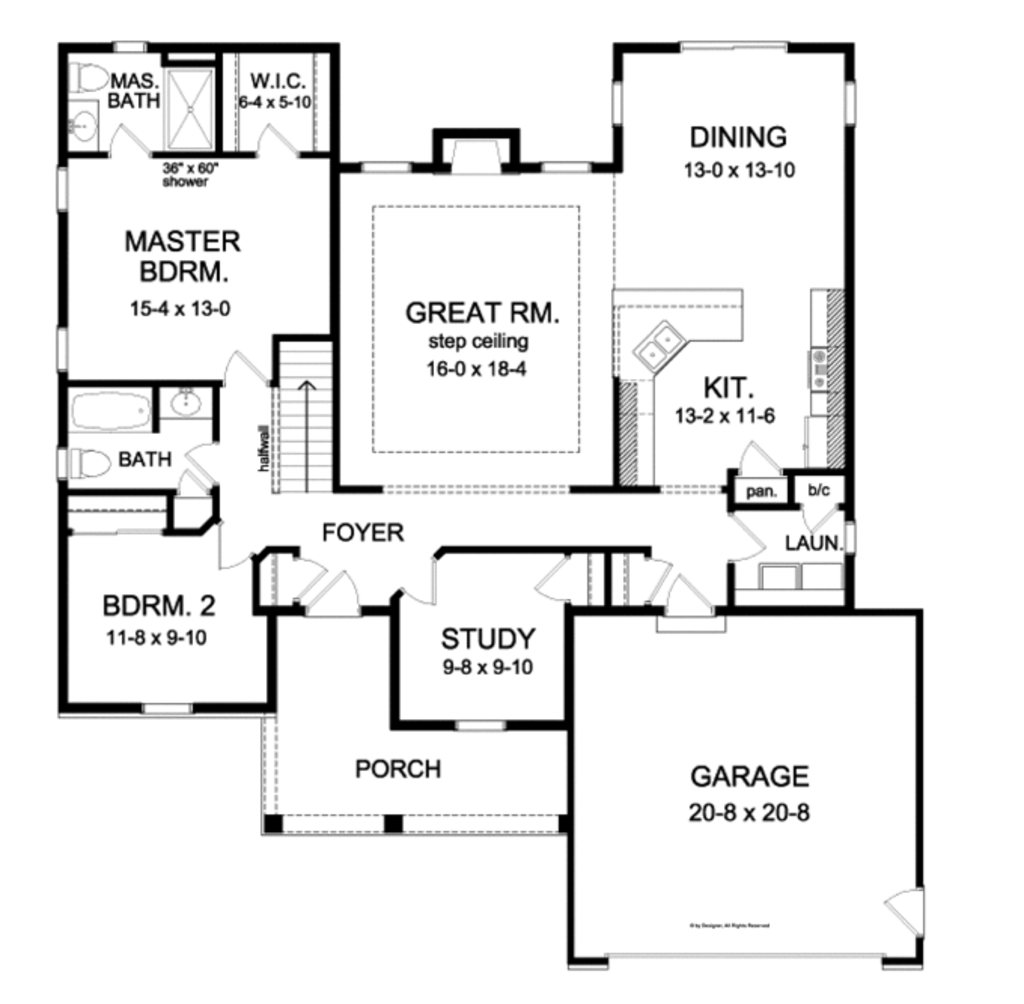door: (309, 568, 363, 623), (659, 575, 717, 621), (252, 119, 303, 164), (399, 558, 441, 611), (882, 885, 928, 933), (725, 515, 768, 566), (532, 555, 574, 607), (218, 348, 275, 386), (735, 440, 782, 483), (179, 439, 222, 485), (107, 116, 152, 159), (294, 551, 327, 607), (796, 507, 845, 534)
large_sink: (66, 59, 118, 100), (69, 441, 112, 484)
small_sink: (153, 381, 215, 426), (62, 98, 102, 155)
stairs: (268, 335, 343, 496)
tub: (68, 384, 159, 436)
twin_sink: (628, 319, 689, 372)
window: (677, 36, 793, 61), (133, 700, 198, 720), (356, 157, 414, 179), (457, 713, 508, 737), (610, 78, 626, 128), (59, 326, 75, 375), (111, 40, 154, 57), (55, 164, 70, 212), (846, 80, 858, 136), (541, 162, 589, 171)
